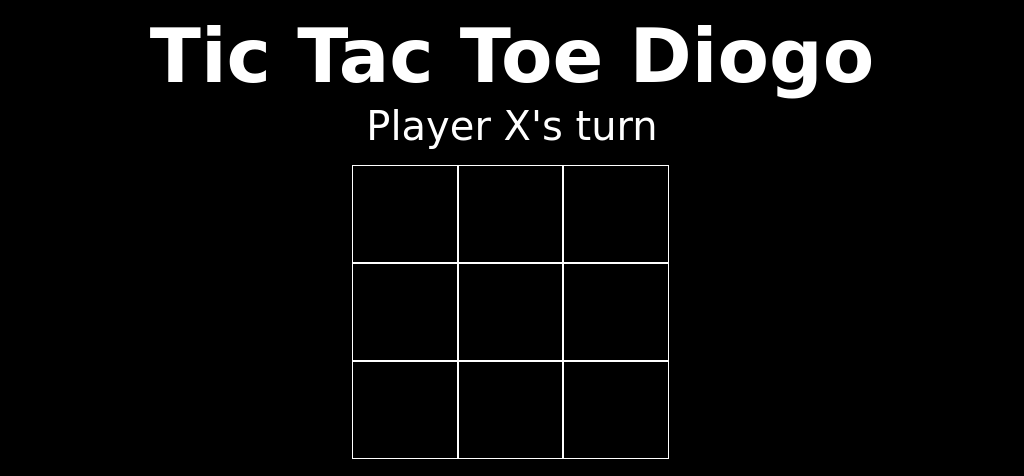
after the first move › Should display player O turn
Click the 1st cell: (405,214) [352,165,458,263]
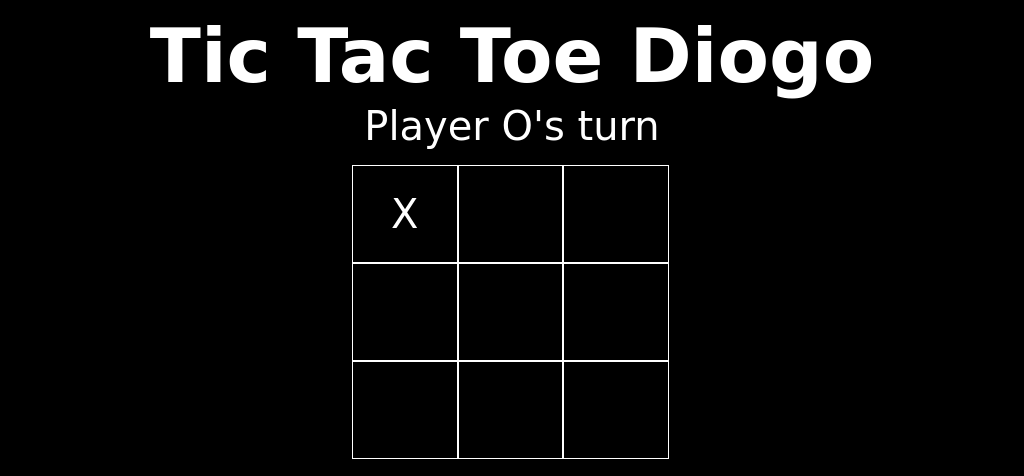
Now the field reads "Player O's turn", box [0,103,1023,149]
